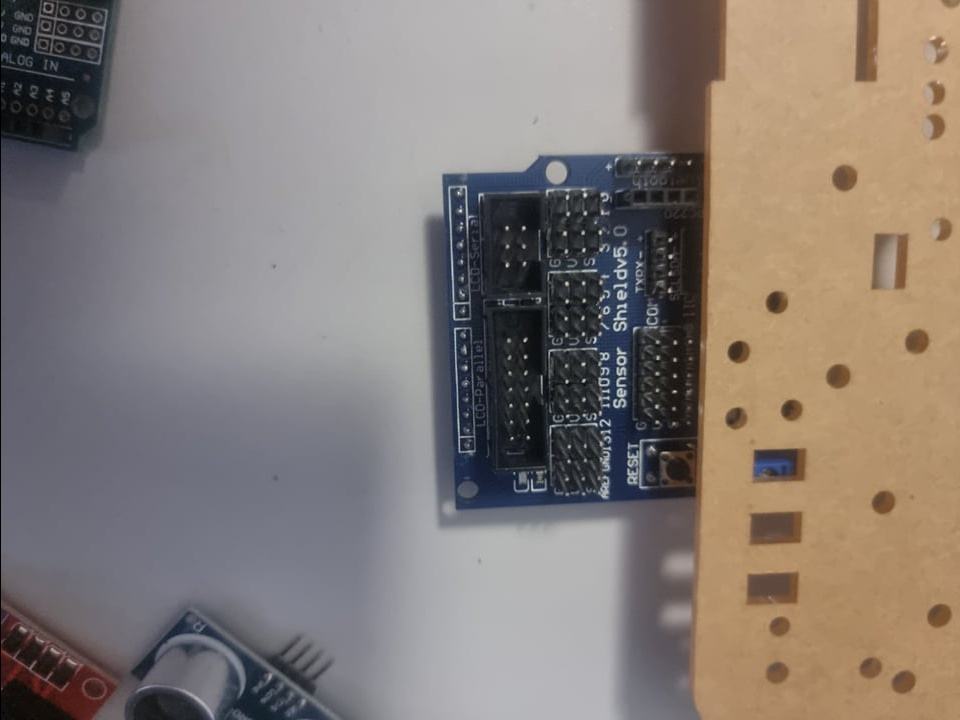5V EXPANSION: (444, 140, 698, 517)
SENSOR: (122, 611, 353, 720)
